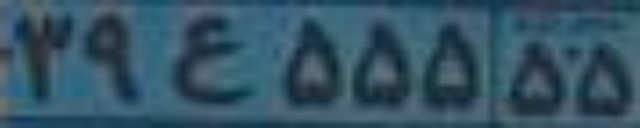3: (11, 12, 78, 106)
5: (274, 16, 343, 106), (416, 21, 483, 108), (351, 19, 411, 107), (576, 39, 637, 118), (502, 41, 567, 115)
9: (83, 14, 143, 105)
ain: (172, 15, 254, 103)
